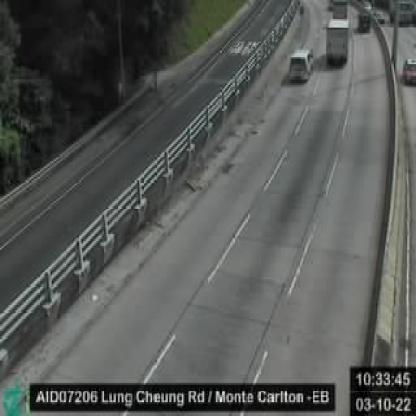Car: (289, 47, 312, 81)
Truck: (324, 17, 347, 66)
